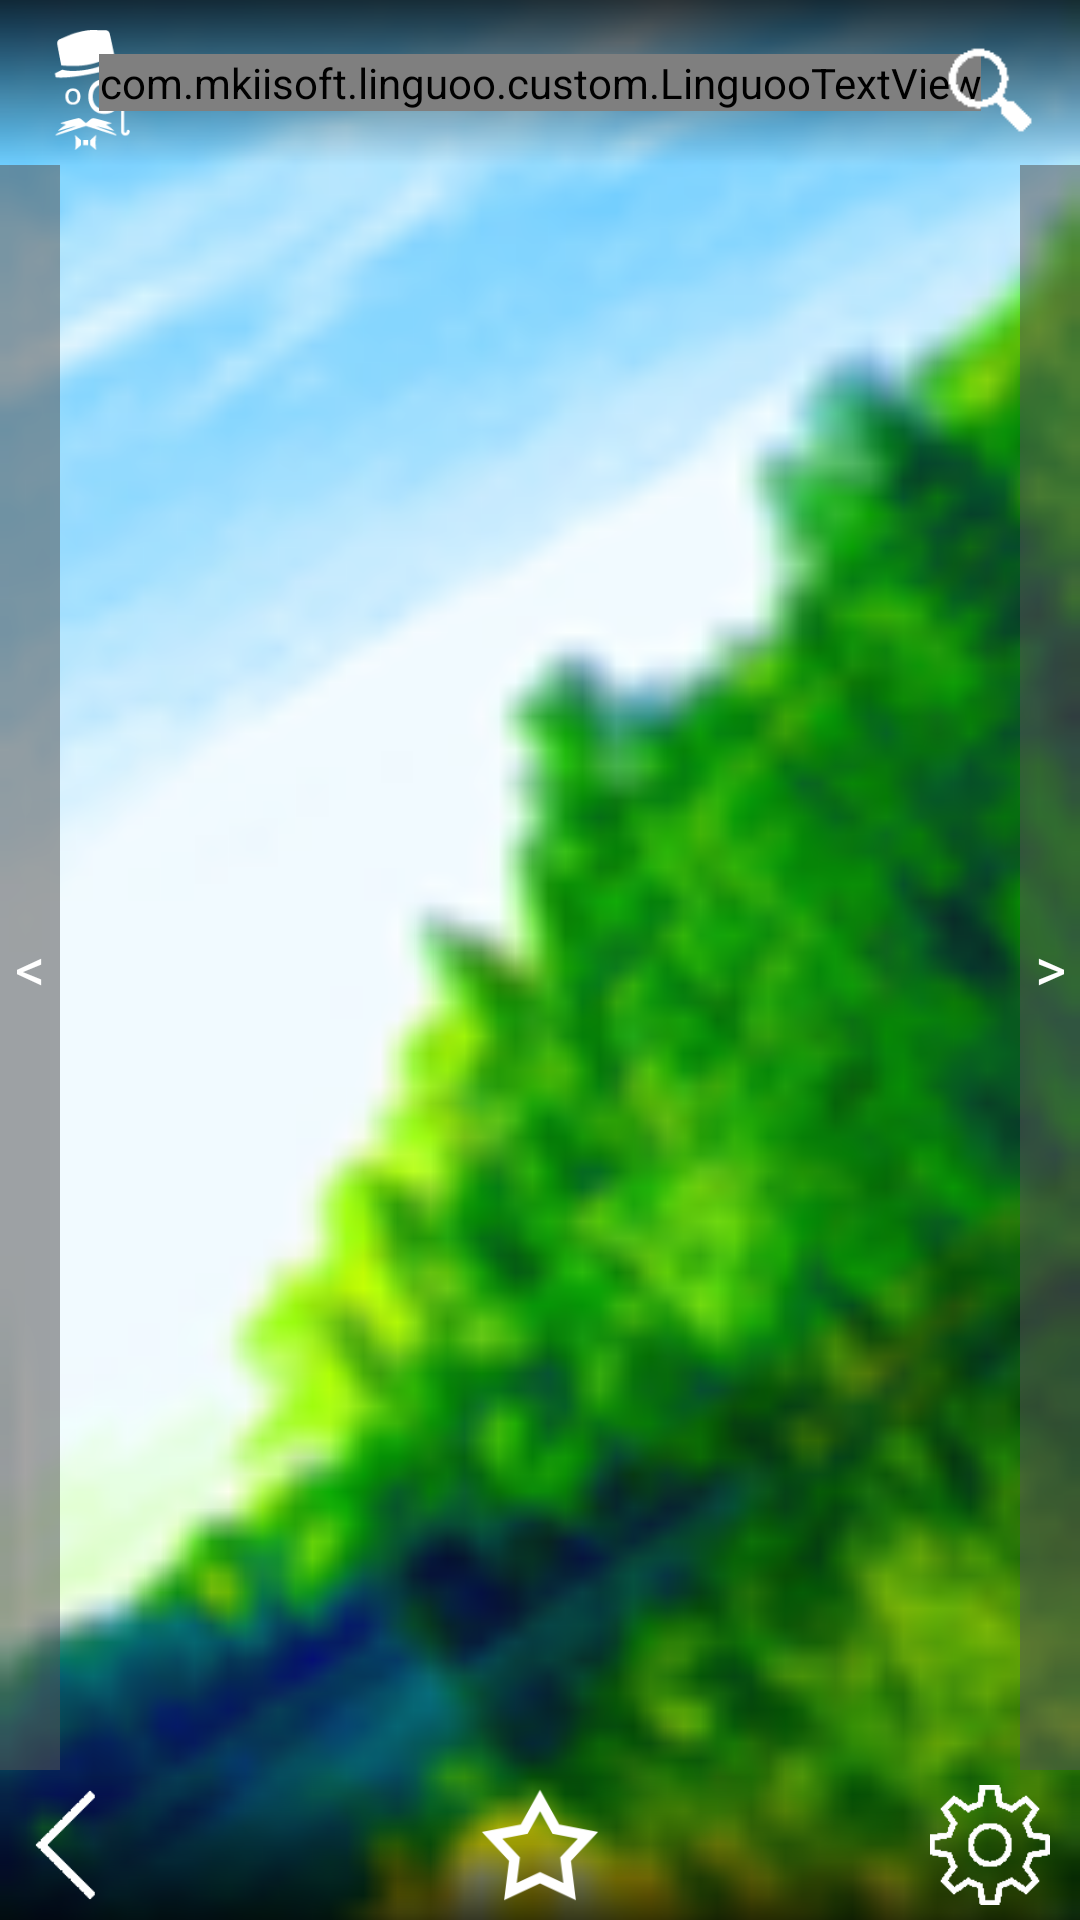

Icons on this 1080w x 1920h Android screen, each with the point to tap as (x=x, y=y):
atrasp: (x=66, y=1845)
settings: (x=990, y=1845)
star: (x=540, y=1845)
